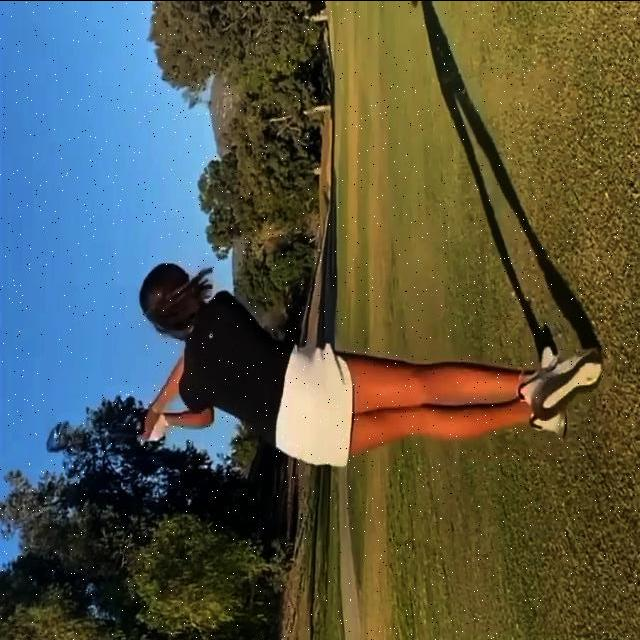golf club-handle: (44, 421, 145, 456)
golf club-head: (46, 421, 70, 452)
